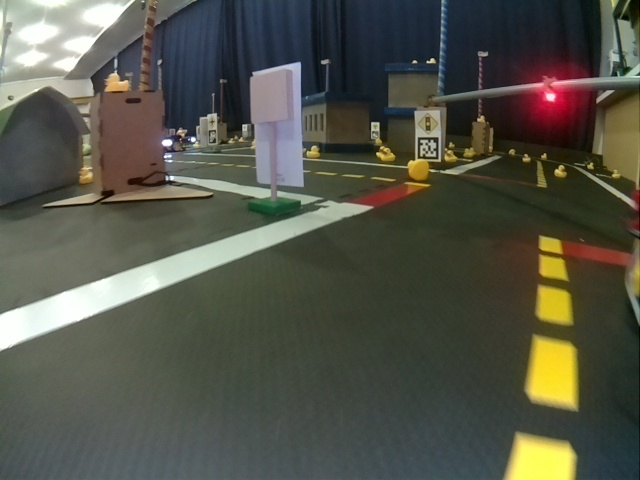Duckie: (407, 159, 428, 180), (104, 74, 128, 91), (78, 167, 93, 184), (381, 148, 395, 161), (306, 145, 320, 158), (445, 150, 458, 162), (554, 165, 567, 177), (611, 169, 621, 179), (376, 147, 385, 158), (586, 162, 596, 171), (464, 148, 473, 158), (476, 115, 486, 124), (522, 154, 531, 163)
Duckiebot: (162, 135, 189, 152)
Intersection sign: (207, 114, 217, 129)
QR code: (417, 136, 439, 160), (207, 129, 217, 145)
Signal sign: (417, 111, 439, 130)
Traffic light: (542, 77, 557, 102)
